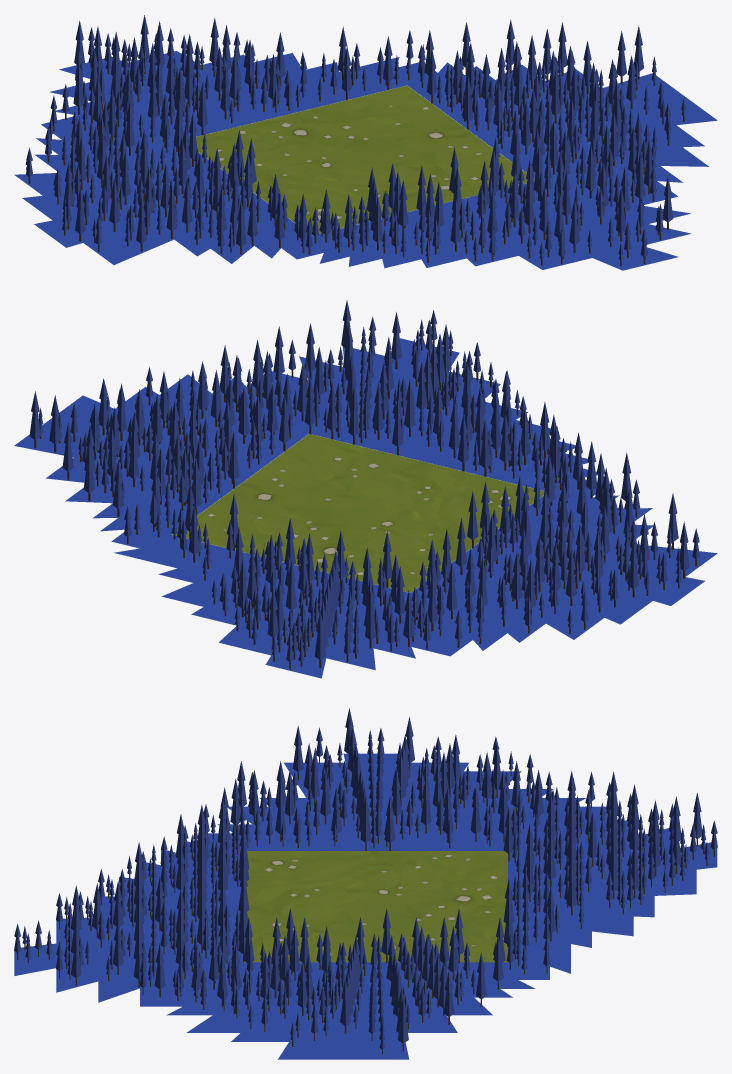
Rendered from forest02_FlutterDreams.glb.
3 views of the same model, one above another, from view 1: azimuth 30°, elevation 25°; view 2: azimuth 150°, elevation 25°; view 3: azimuth 270°, elevation 25° (orthographic). The views are drawn at different scales.
Parts seen in each view (by area): view 1: trees_blue, grass; view 2: trees_blue, grass; view 3: trees_blue, grass.
Part boxes in pixels (box(x1,y1,x2,y2)): trees_blue: box(14, 51, 717, 270); grass: box(189, 85, 534, 235); trees_blue: box(14, 338, 717, 678); grass: box(172, 434, 544, 592); trees_blue: box(14, 753, 717, 1059); grass: box(245, 851, 507, 962).
Size of the model in its own units: 35.5 by 4.94 by 34.53.
Materials: 4 (1 with a texture image).
